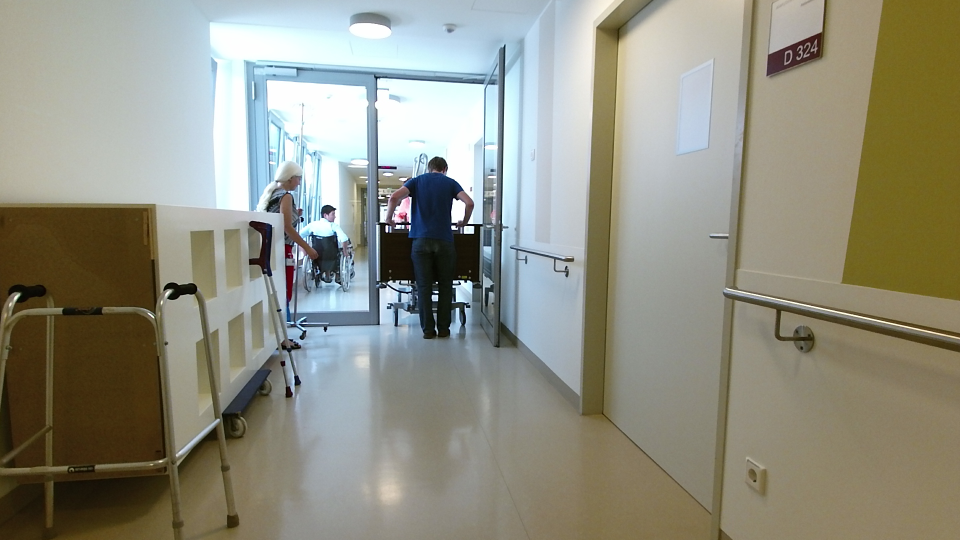wheelchair: (306, 203, 357, 286)
